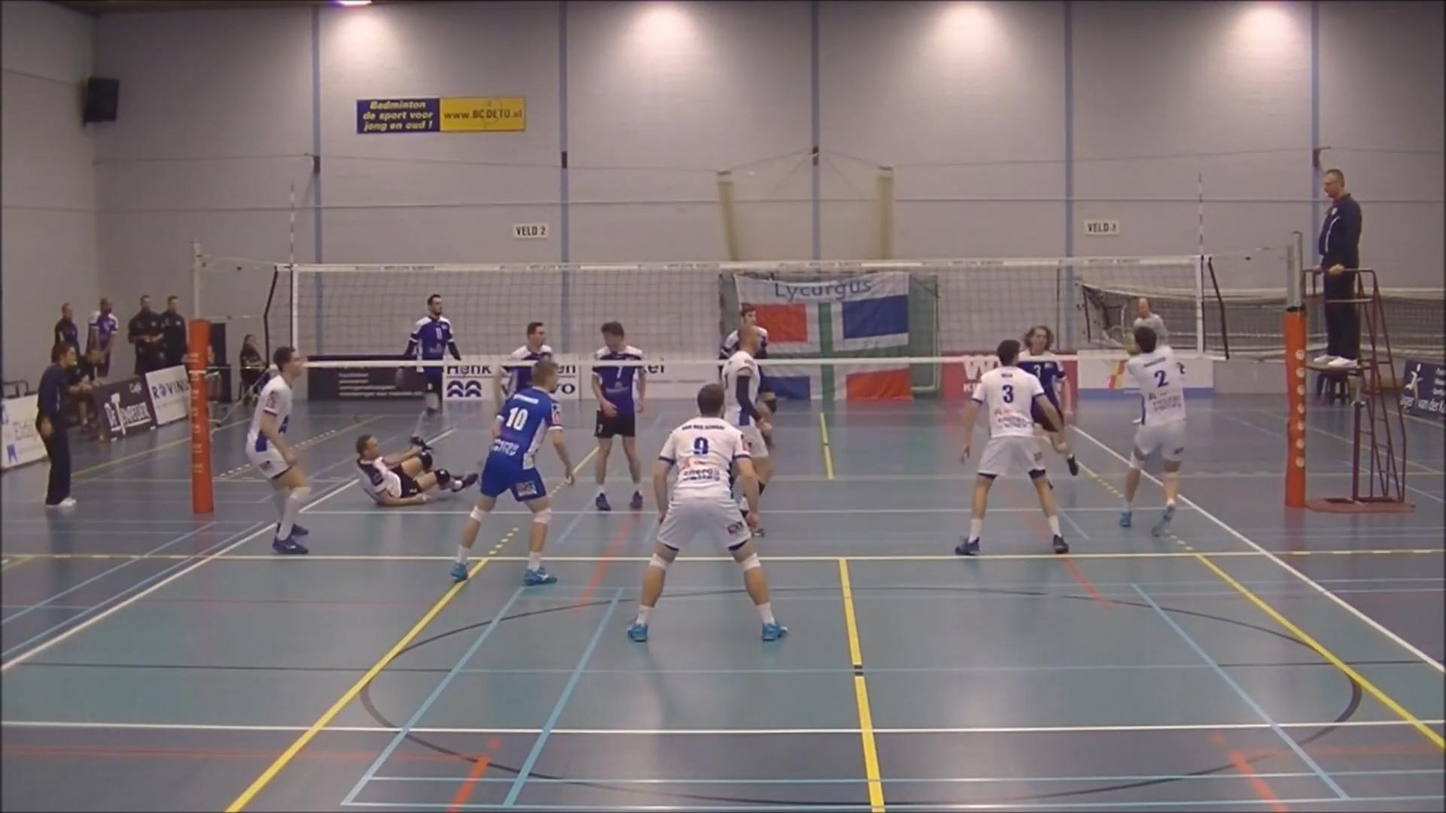difesa: (1113, 320, 1188, 528)
